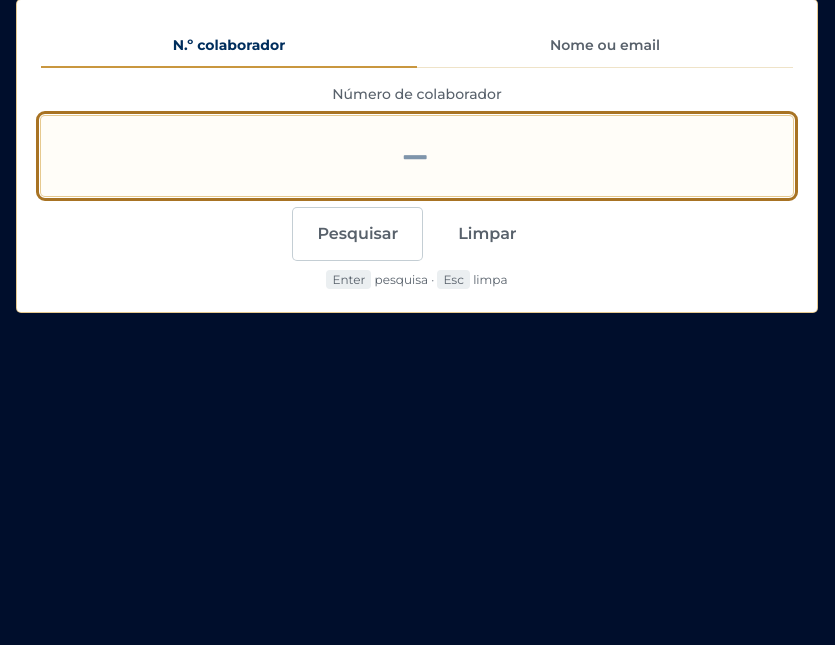
Scenario: pesquisa por nome ou email › um email exato abre o cartão diretamente, sem lista
Click the tab "Nome ou email" at (605, 46), box [417,24,793,68]
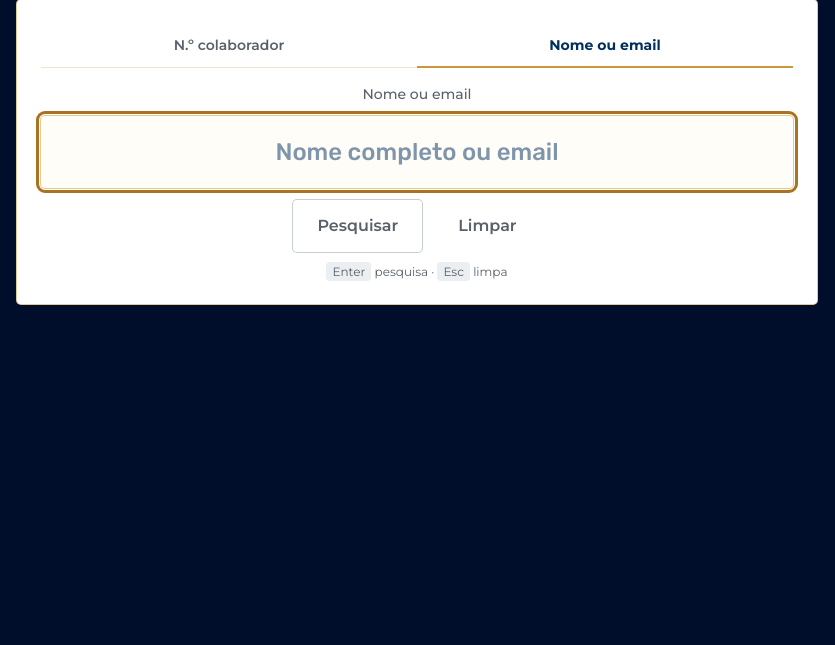
Type "joao.silva@empresa.pt" into the field labelled "Nome ou email" at (417, 152), box [41,116,793,188]
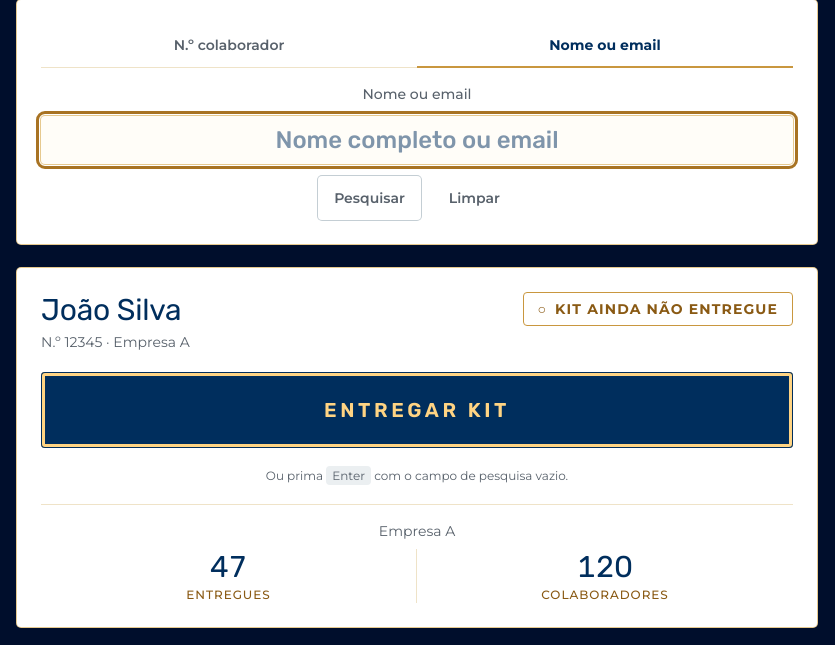
Check: the field labelled "Nome ou email" is empty, box [41,116,793,164]
Check: the text "KIT AINDA NÃO ENTREGUE" is shown, box [555,300,778,318]
